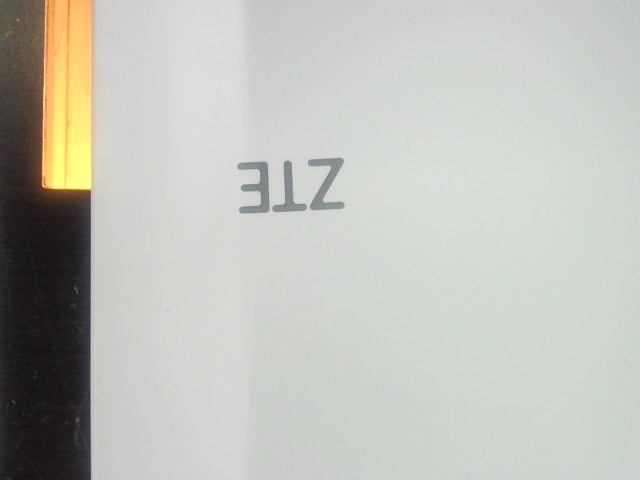AO_ZTESmall: (228, 146, 356, 227)
